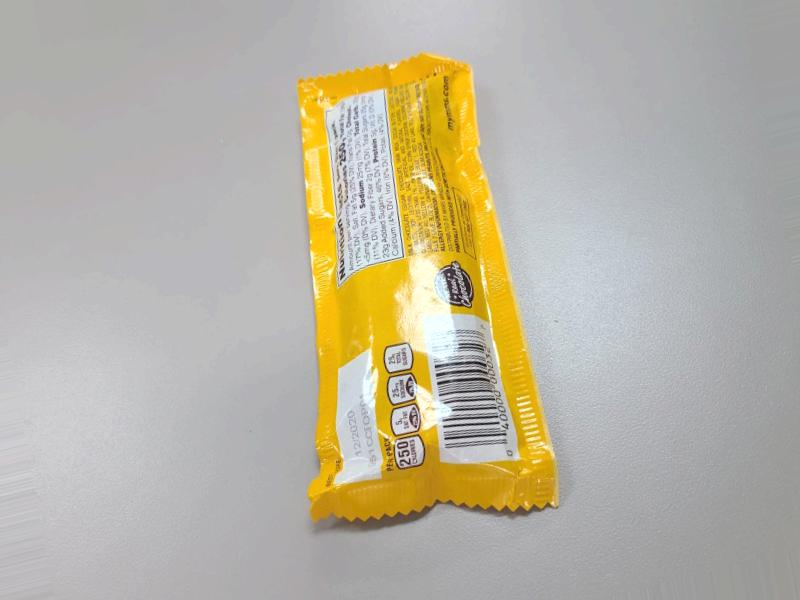m&m: (376, 45, 571, 539)
